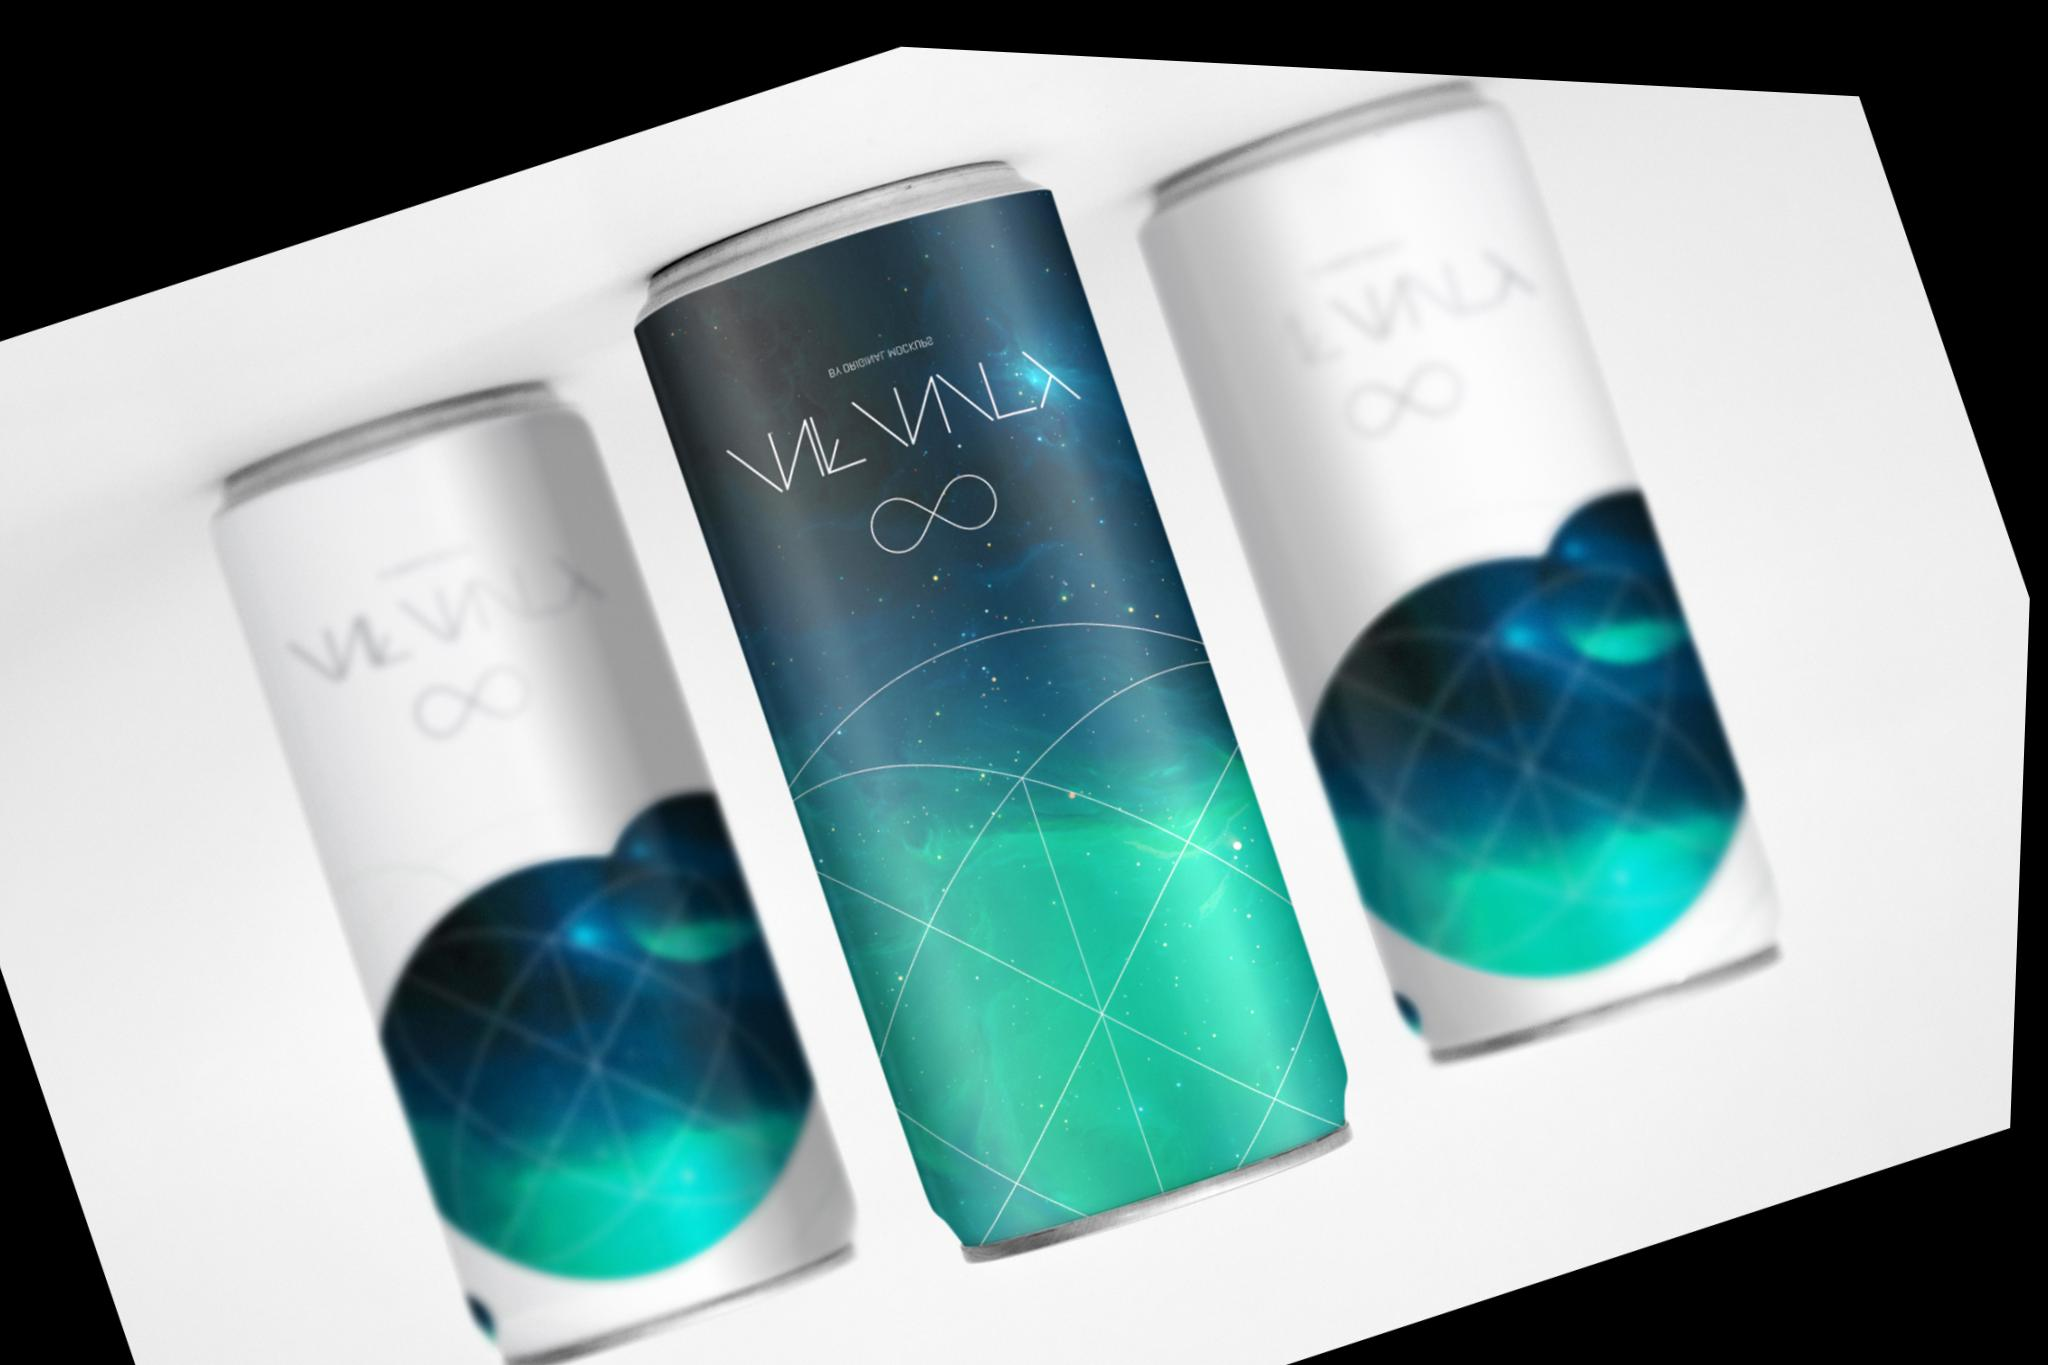metal: (638, 171, 1345, 1239), (216, 385, 851, 1353), (1142, 88, 1775, 1056)
